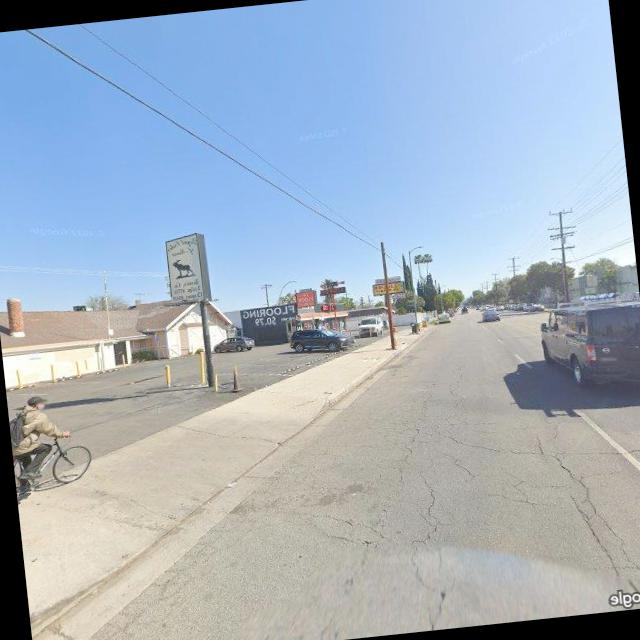crack: (261, 382, 484, 639), (538, 422, 638, 583), (445, 409, 640, 473)
